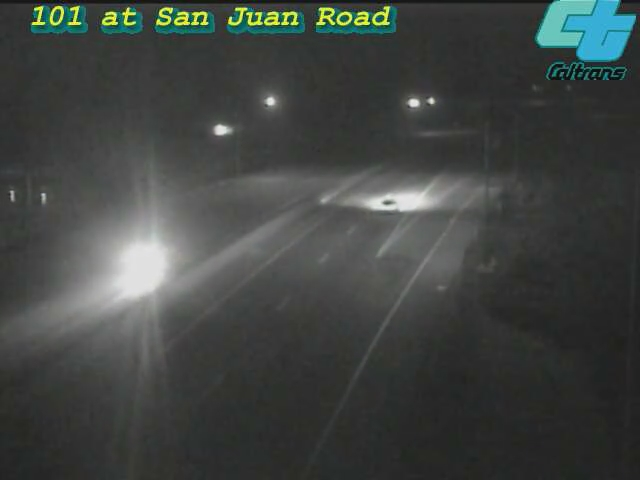vehicle: (346, 166, 426, 246), (105, 220, 185, 300)
